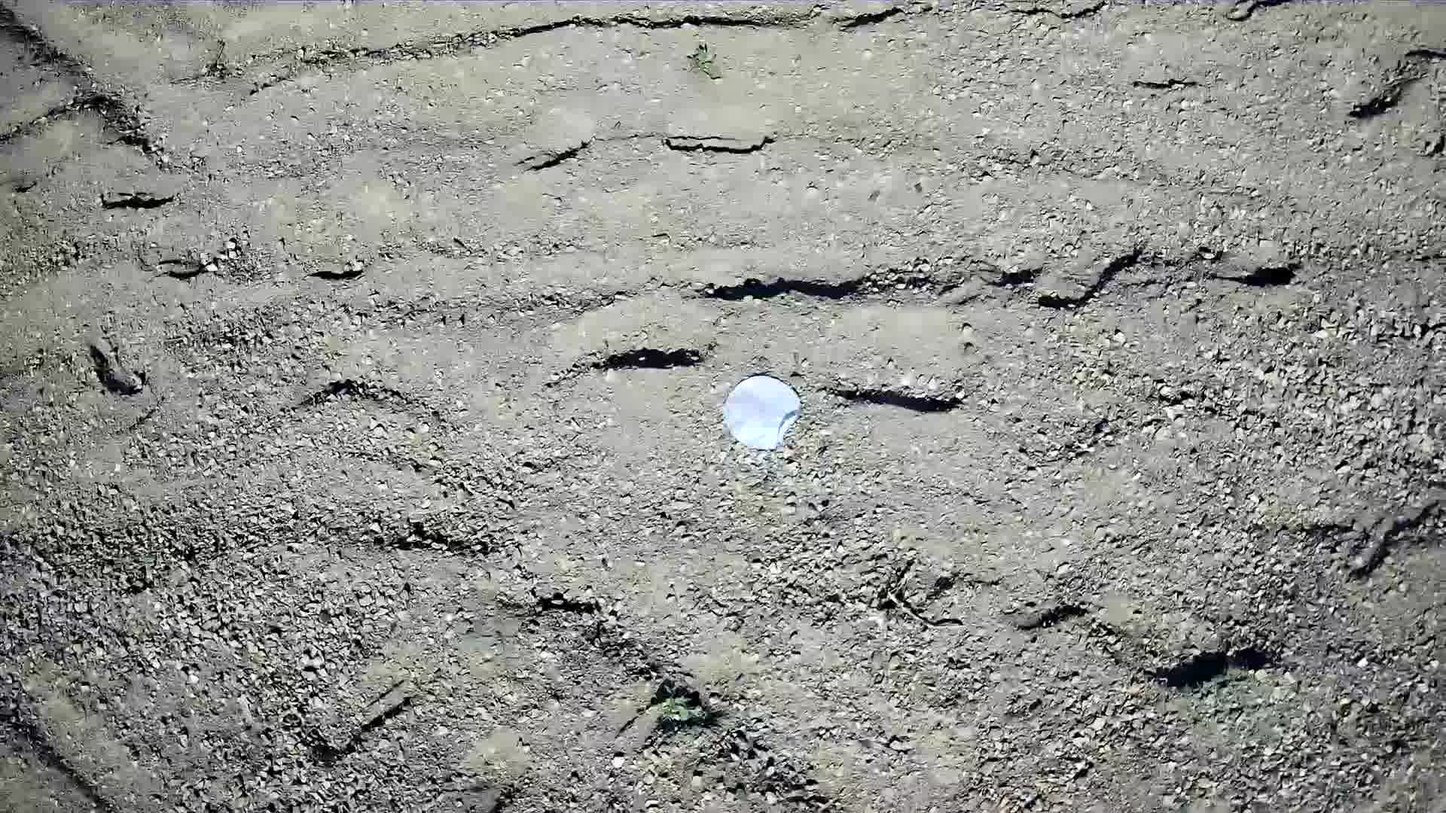Target: (716, 367, 804, 448)
